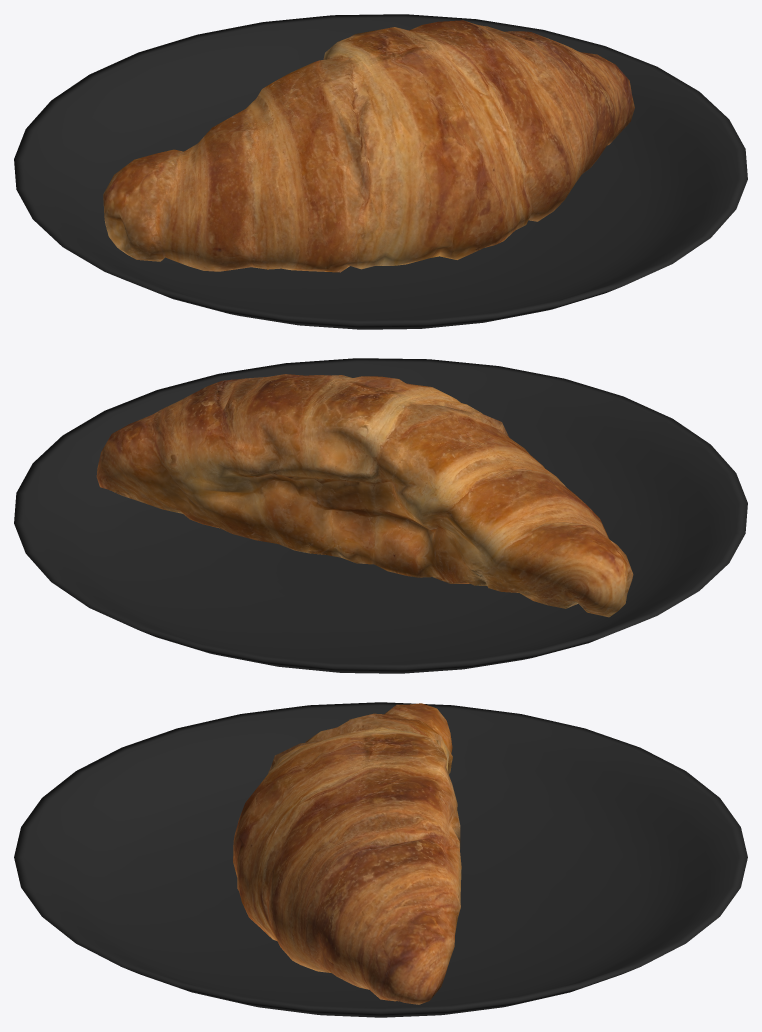
File: croissant.glb
3 renders of one model, top to bottom at view 1: azimuth 30°, elevation 25°; view 2: azimuth 150°, elevation 25°; view 3: azimuth 270°, elevation 25°, orthographic.
Parts seen in each view (by area): view 1: croissant, Circle; view 2: Circle, croissant; view 3: Circle, croissant.
Part boxes in pixels (<box>): croissant: <box>103,20,634,272</box>; Circle: <box>14,14,747,329</box>; Circle: <box>14,358,747,673</box>; croissant: <box>96,374,633,617</box>; Circle: <box>14,702,747,1017</box>; croissant: <box>233,703,461,1004</box>.
Bounding box in the file's own units: 0.1455 × 0.0407 × 0.1455.
2 materials, 1 textured.
